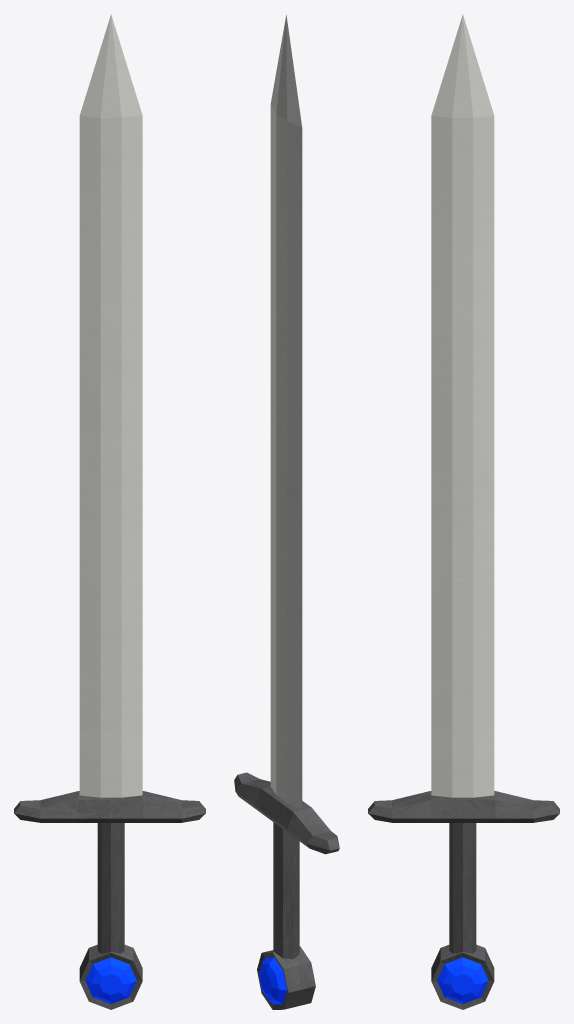
Rendered from Sword.fbx.
3 renders of one model, left to right at view 1: azimuth 90°, elevation 25°; view 2: azimuth 210°, elevation 25°; view 3: azimuth 270°, elevation 25°, orthographic.
Visible parts, largest first — view 1: Blade, PAarry guard, Hilt, GemStone, Knob; view 2: Blade, Hilt, PAarry guard, Knob, GemStone; view 3: Blade, PAarry guard, Hilt, GemStone, Knob.
Part boxes in pixels (x1,y1,x2,y2): Blade: (79, 14, 142, 797); PAarry guard: (14, 791, 205, 822); Hilt: (97, 823, 124, 953); GemStone: (85, 957, 136, 1003); Knob: (79, 944, 142, 1009); Blade: (270, 15, 302, 809); Hilt: (273, 822, 299, 959); PAarry guard: (234, 772, 339, 854); Knob: (257, 946, 315, 1009); GemStone: (259, 957, 286, 1004); Blade: (431, 14, 494, 797); PAarry guard: (368, 791, 559, 822); Hilt: (449, 823, 476, 953); GemStone: (437, 957, 488, 1003); Knob: (431, 944, 494, 1009).
Size of the model in its own units: 148 by 3462 by 608.
Materials: 3 (2 with a texture image).
